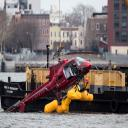helicopter: (5, 34, 96, 120)
